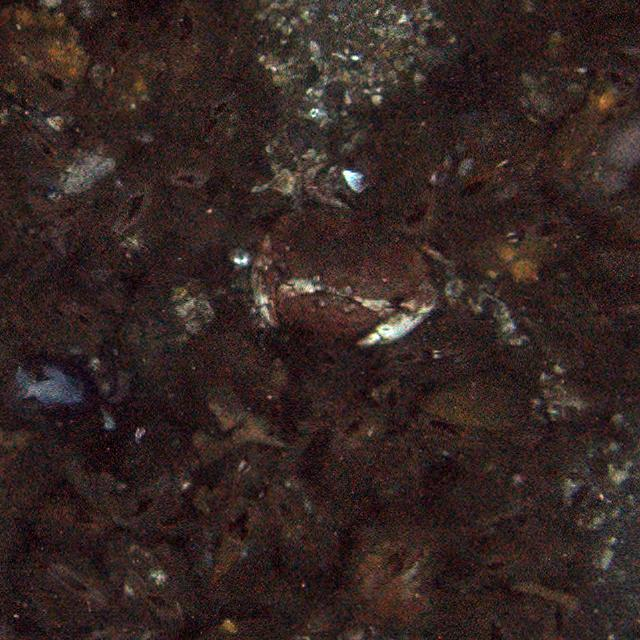crab: (252, 207, 442, 353)
